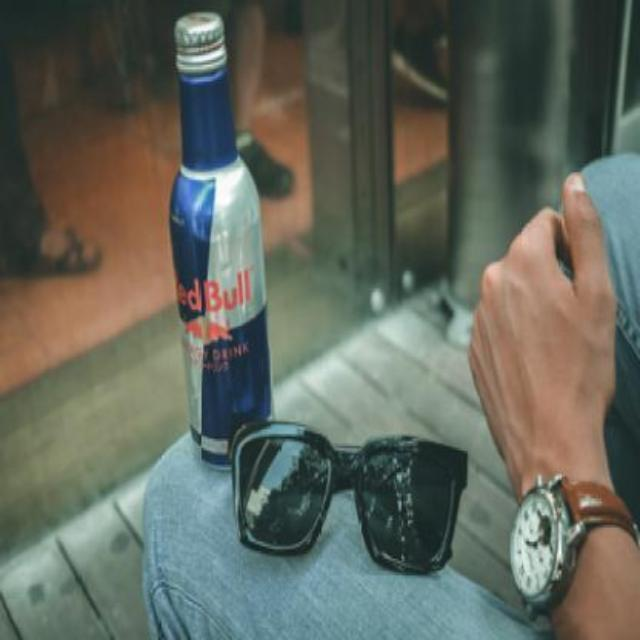glasses: (233, 419, 469, 577)
